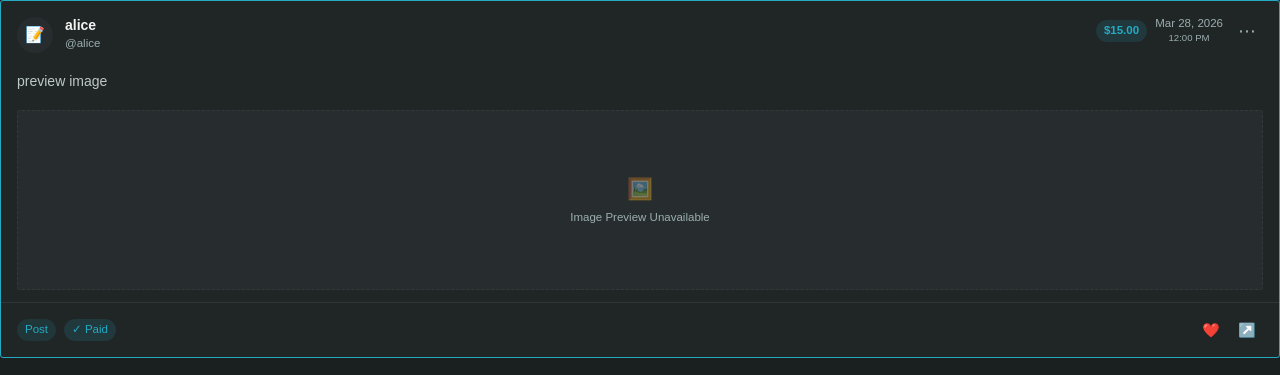
Test: ContentCard › triggers onHideUser when clicking the 3-dotted menu and selecting hide user from results
Click the button with class "content-card-menu-btn": [1247, 31] box x1=1231 y1=17 x2=1263 y2=45
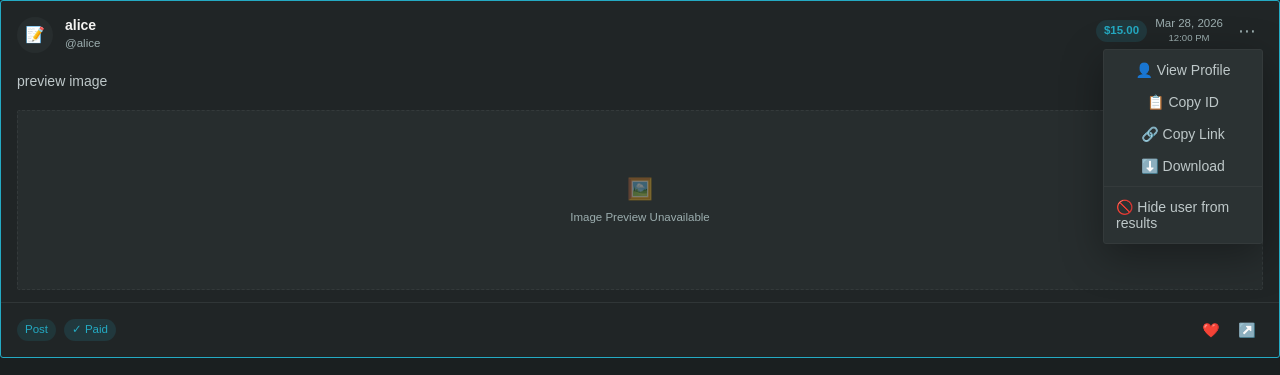
expect the button with class "content-card-dropdown-item" showing "🚫 Hide user from results" is shown: met
Click the button with class "content-card-dropdown-item" showing "🚫 Hide user from results": [1183, 215] box x1=1104 y1=191 x2=1262 y2=239
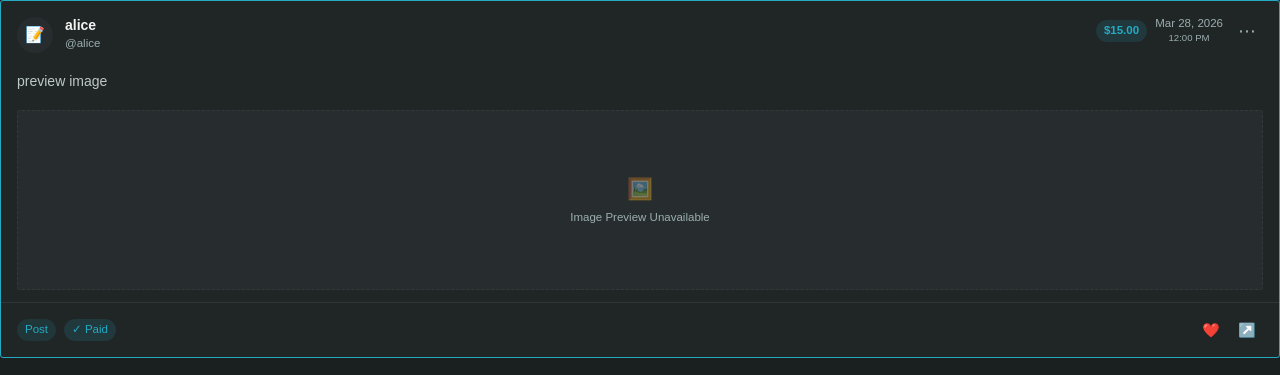
expect the text "alice" is shown: met, box x1=65 y1=17 x2=96 y2=33
expect the element with class "content-card-dropdown" is gone: met
